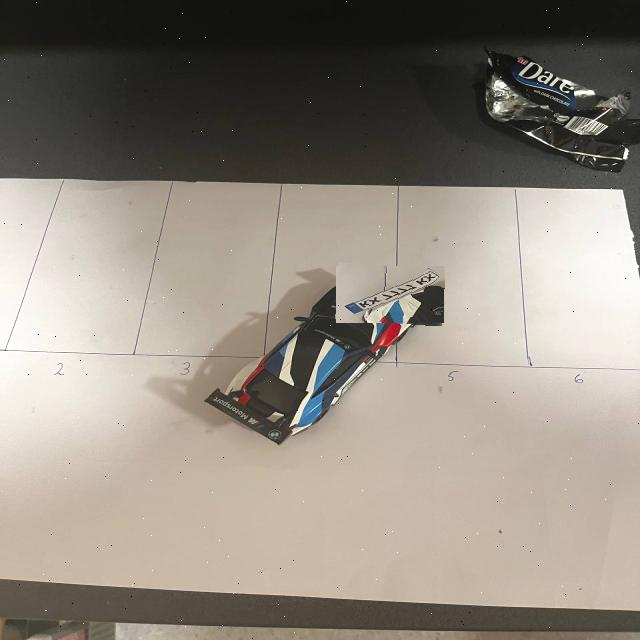KX 7777 KX: (336, 269, 445, 321)
